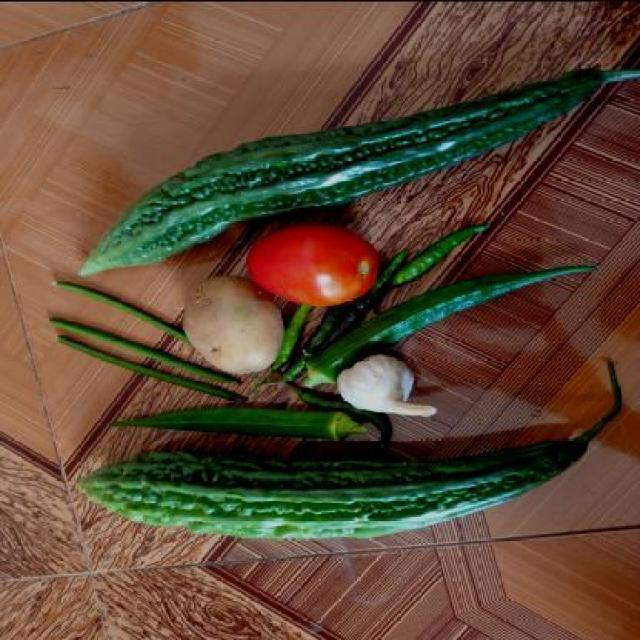Bitter melon: (105, 60, 610, 222), (83, 446, 588, 539)
Garlic: (114, 411, 360, 442), (338, 352, 444, 420)
Potato: (183, 270, 285, 372)
Tomato: (248, 224, 384, 304)
